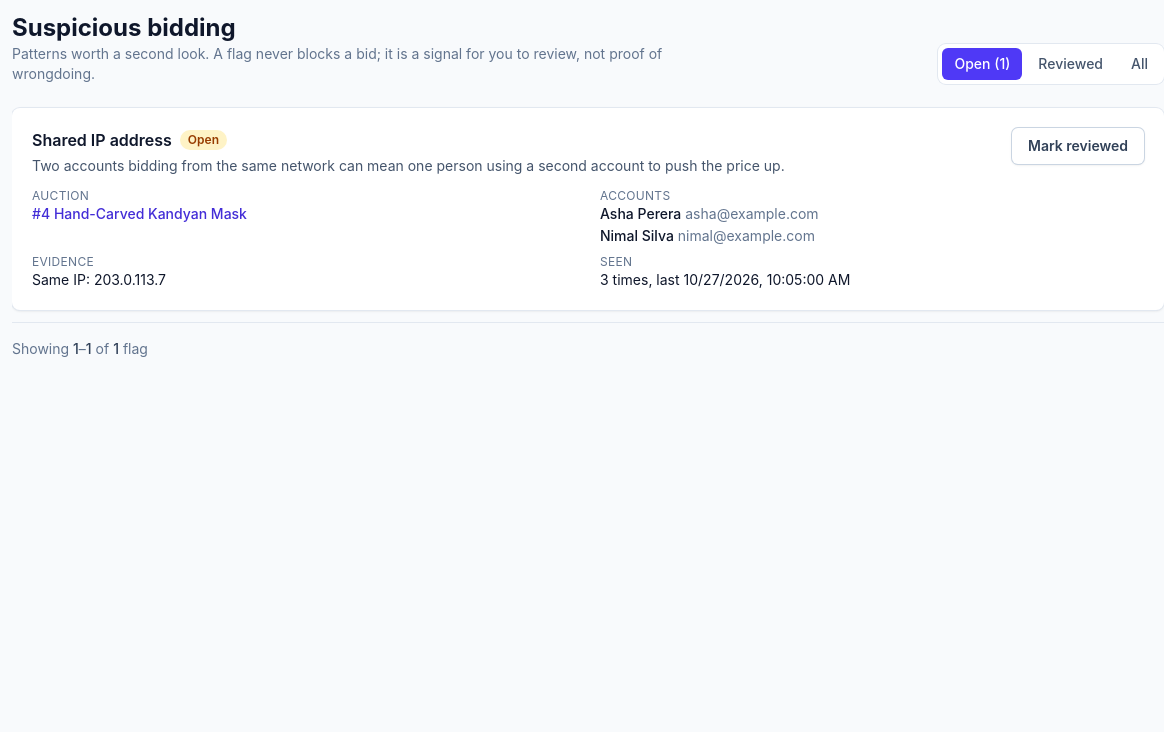
Test: <AdminFlagsPage> › marks a flag as reviewed
The image size is (1164, 732).
Click the button "Mark reviewed" at point(1078, 146), box [1012,128,1144,164]
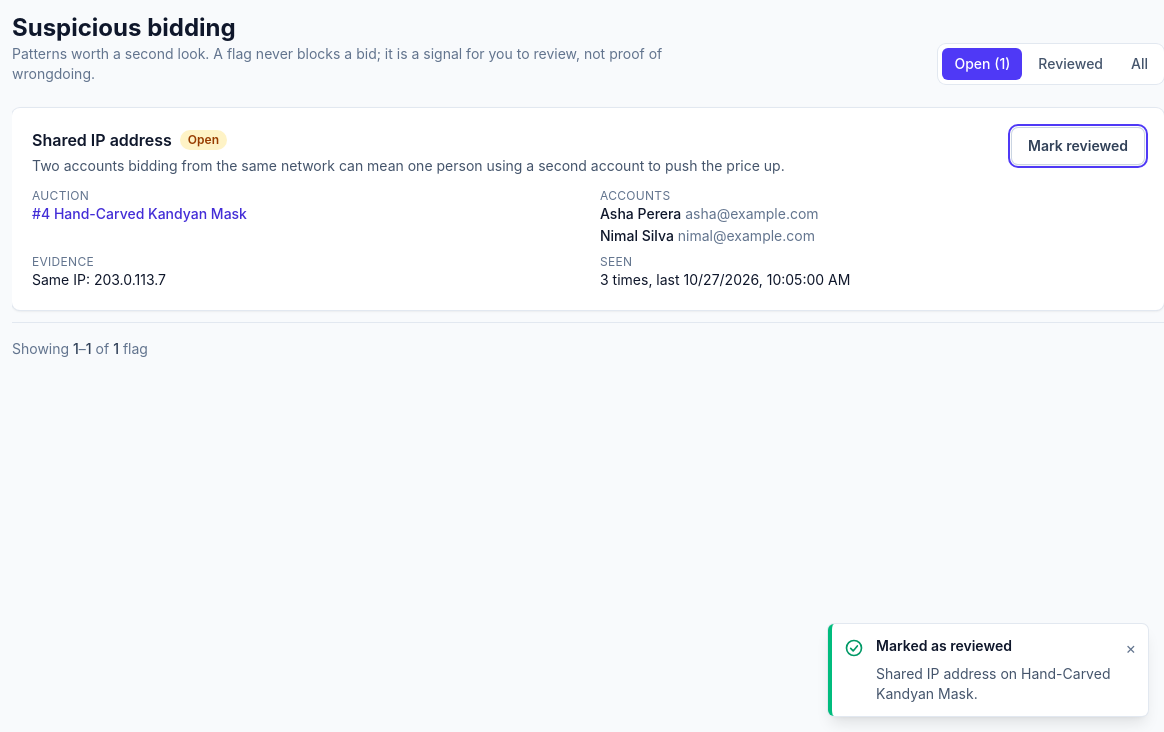
Now the text "Marked as reviewed" is shown, box [876,636,1012,656]
